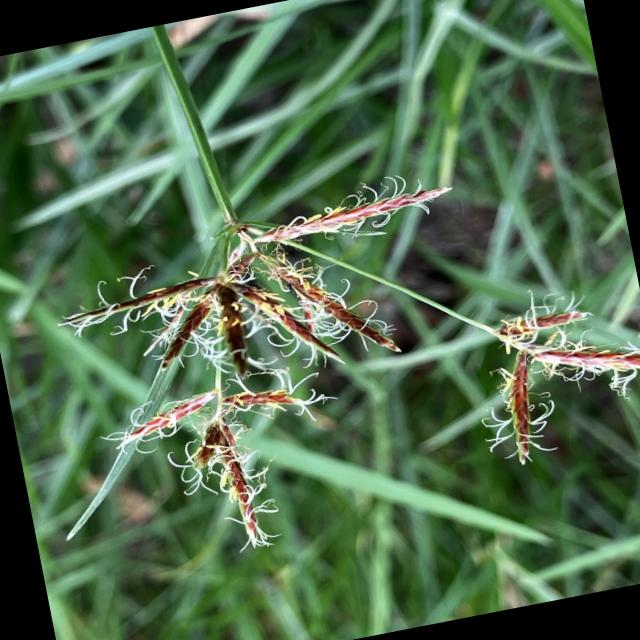cyperus: (58, 130, 640, 581), (42, 157, 515, 592), (453, 266, 640, 480)
